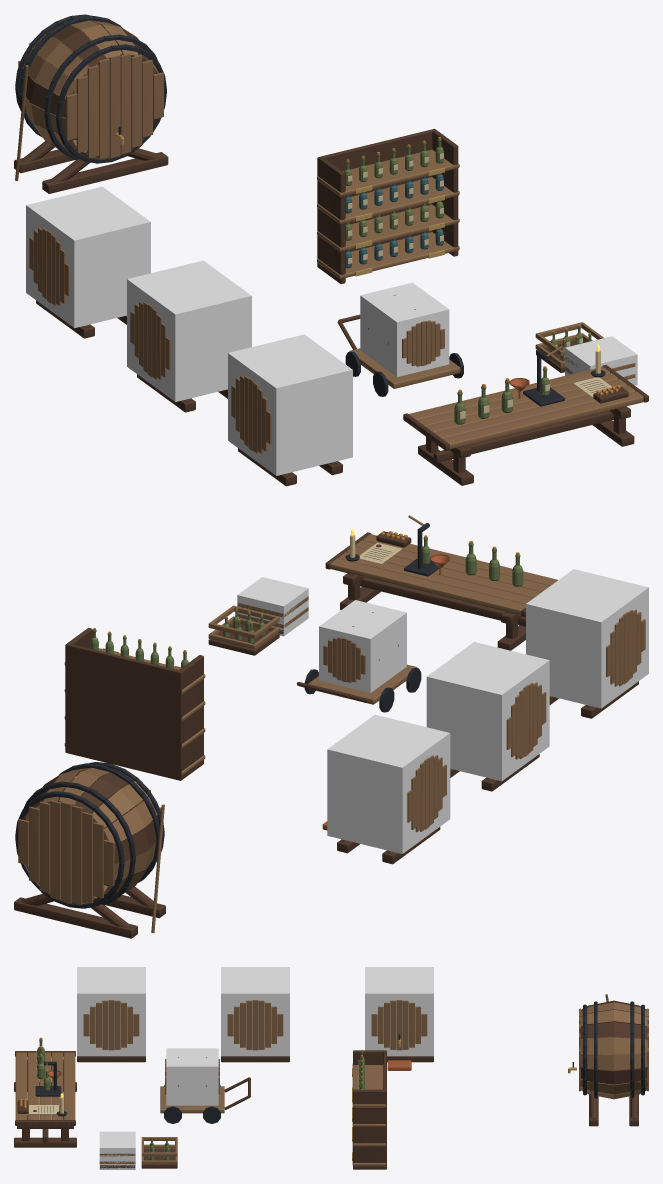
File: cellar_working.glb
3 renders of one model, top to bottom at view 1: azimuth 30°, elevation 25°; view 2: azimuth 150°, elevation 25°; view 3: azimuth 270°, elevation 25°, orthographic. The views are drawn at different scales.
Parts seen in each view (by area): view 1: cellar_working, Stored wine barrel-colonly.003, Stored wine barrel-colonly.001, Stored wine barrel-colonly.002, Stored wine barrel-colonly.004, Open transport bottle crate-colonly.001; view 2: cellar_working, Stored wine barrel-colonly.001, Stored wine barrel-colonly.002, Stored wine barrel-colonly.003, Stored wine barrel-colonly.004, Open transport bottle crate-colonly.001; view 3: cellar_working, Stored wine barrel-colonly.002, Stored wine barrel-colonly.003, Stored wine barrel-colonly.001, Stored wine barrel-colonly.004, Open transport bottle crate-colonly.001.
Part boxes in pixels (box(x1,y1,x2,y2)): cellar_working: box(14, 14, 648, 486); Stored wine barrel-colonly.003: box(228, 334, 352, 475); Stored wine barrel-colonly.001: box(26, 186, 150, 328); Stored wine barrel-colonly.002: box(127, 260, 251, 401); Stored wine barrel-colonly.004: box(360, 282, 449, 376); Open transport bottle crate-colonly.001: box(565, 336, 637, 385); cellar_working: box(14, 515, 645, 938); Stored wine barrel-colonly.001: box(327, 714, 450, 853); Stored wine barrel-colonly.002: box(426, 642, 549, 781); Stored wine barrel-colonly.003: box(526, 569, 648, 708); Stored wine barrel-colonly.004: box(319, 600, 406, 692); Open transport bottle crate-colonly.001: box(237, 577, 308, 636); cellar_working: box(14, 994, 648, 1169); Stored wine barrel-colonly.002: box(221, 967, 289, 1056); Stored wine barrel-colonly.003: box(77, 967, 145, 1056); Stored wine barrel-colonly.001: box(365, 967, 433, 1056); Stored wine barrel-colonly.004: box(166, 1048, 218, 1105); Open transport bottle crate-colonly.001: box(99, 1131, 135, 1169).
Size of what is drawn, in the model's own units: 10.39 by 3.69 by 21.17.
